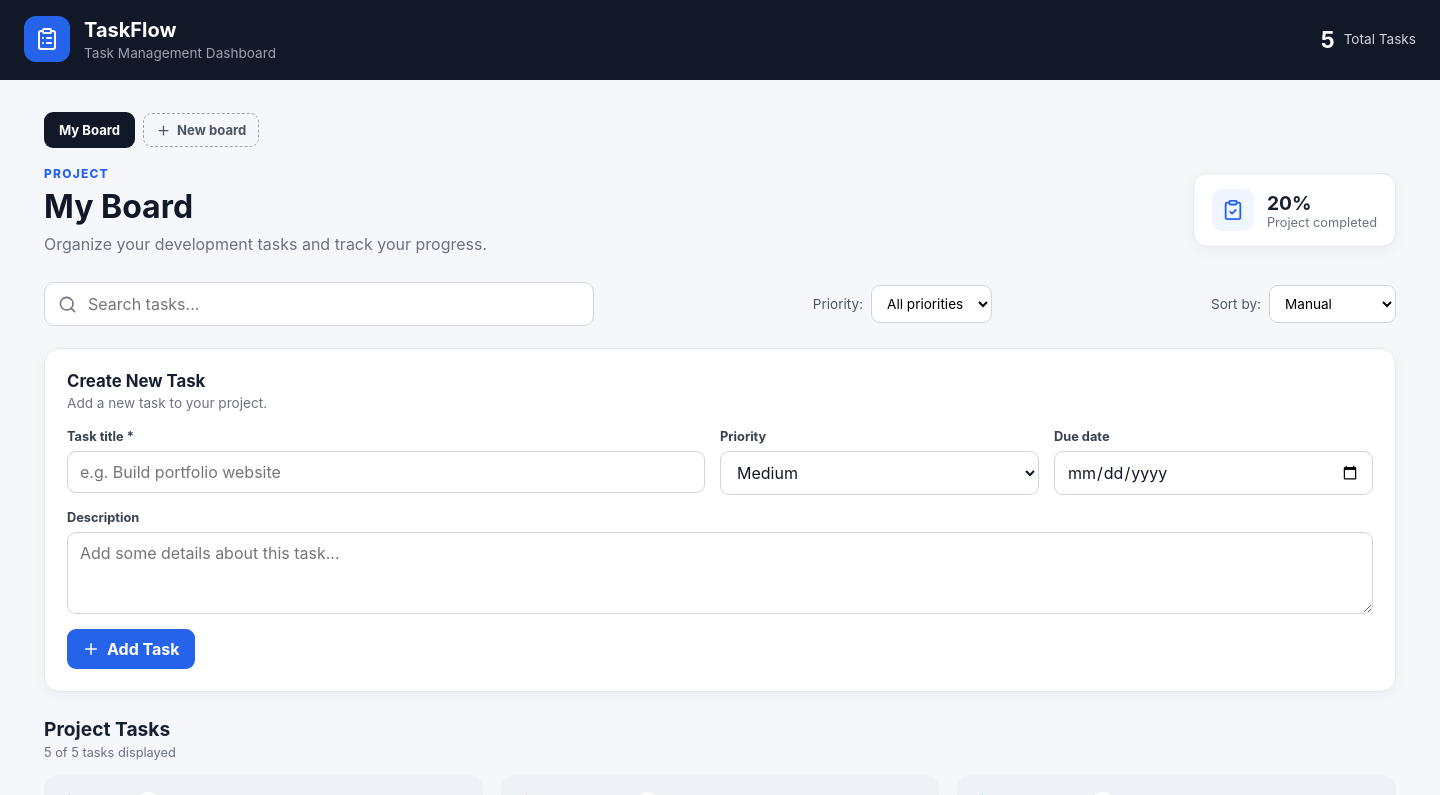
App › adds a new task to the To Do column
The image size is (1440, 795).
In the field labelled "Task title *": (386, 472) [67, 451, 705, 493], type "Write onboarding docs"
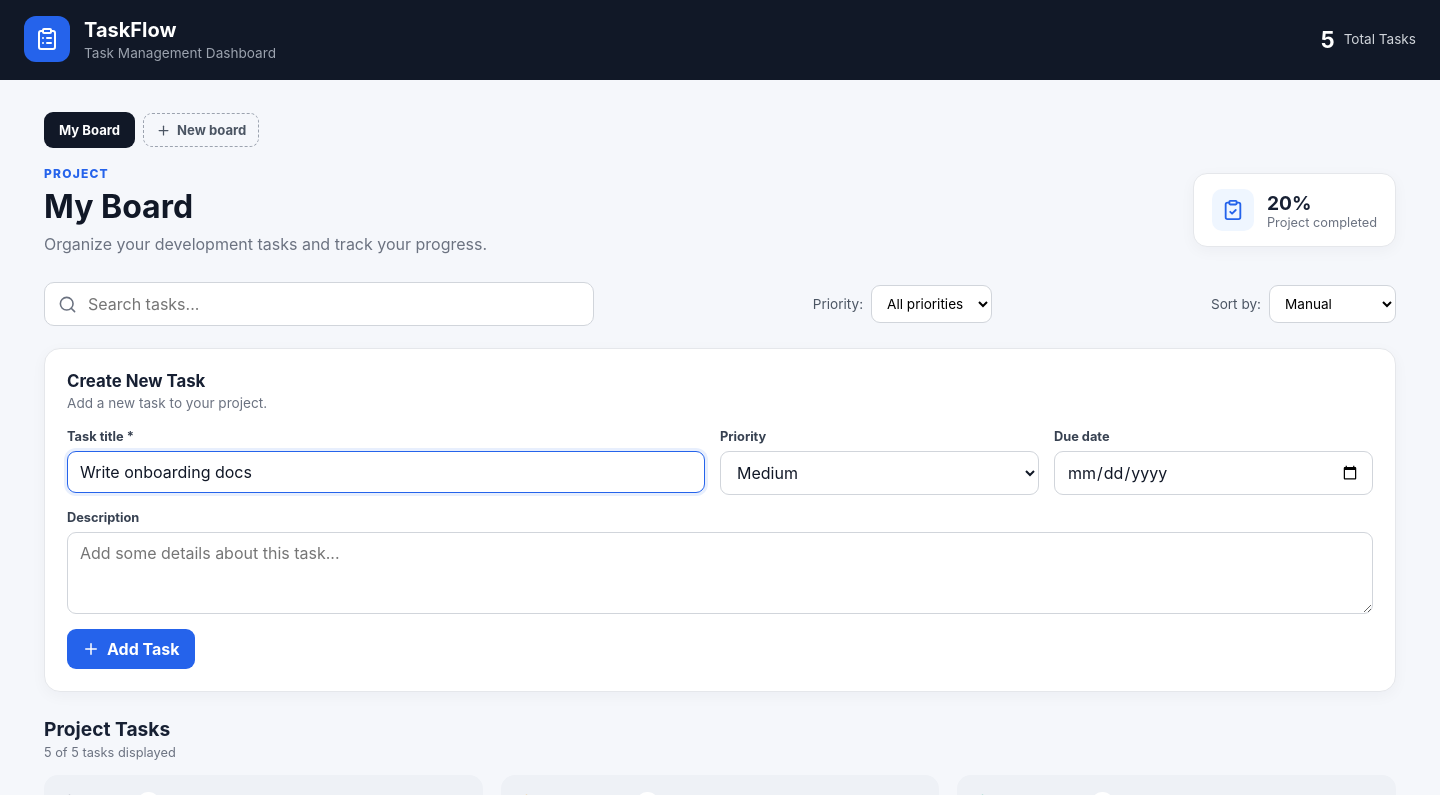
Click the button "Add Task": click(131, 649) [67, 629, 195, 669]
(page scrolled)
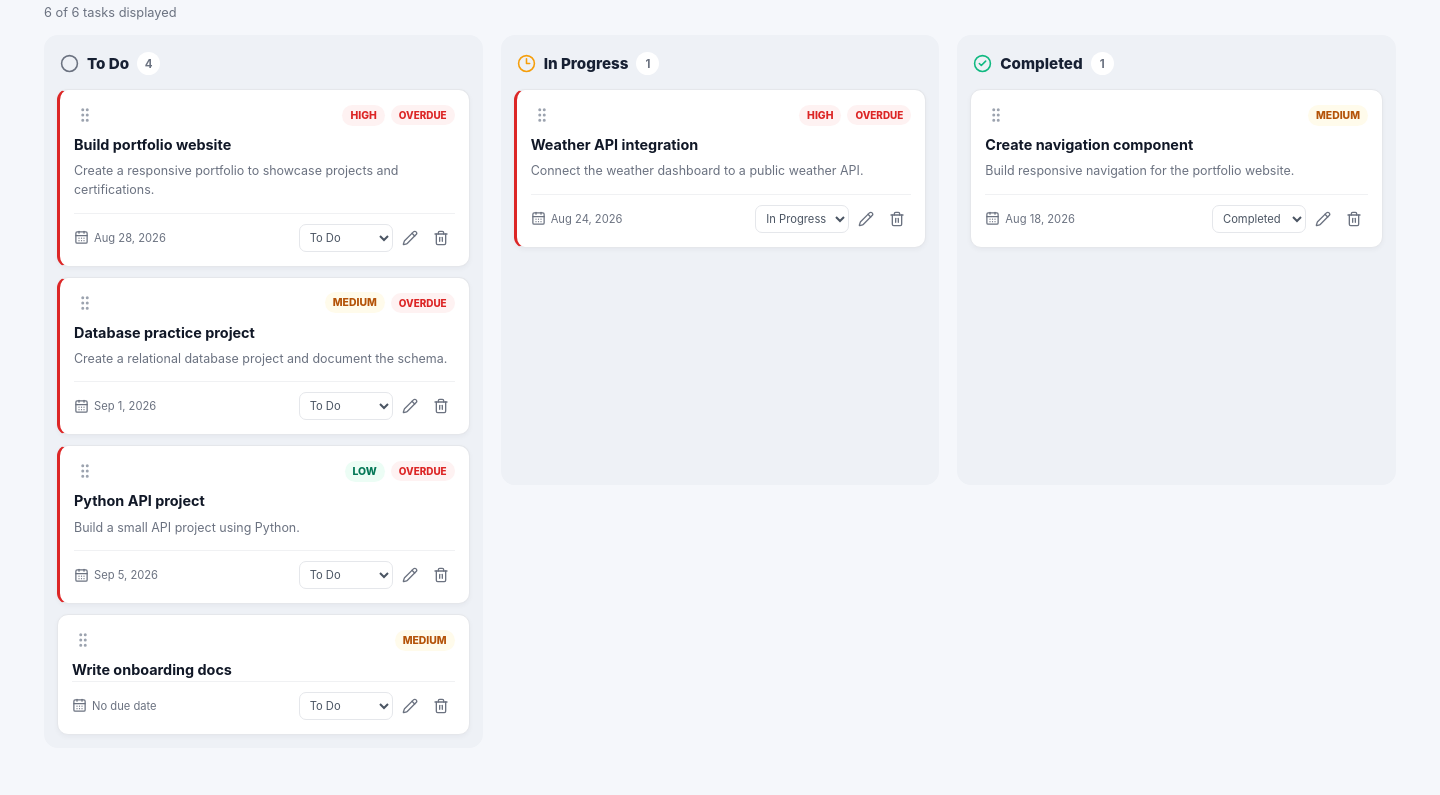
Expected: the element "To Do" is shown, [44, 35, 483, 748]
Expected: the heading "Write onboarding docs" is shown, [72, 661, 232, 678]
